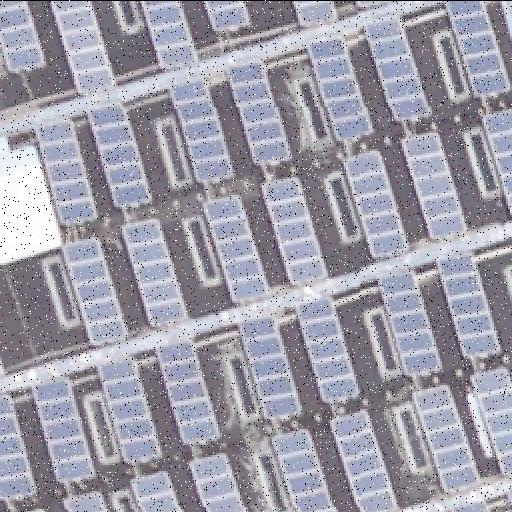solar-panel: (408, 379, 480, 493), (326, 404, 398, 512), (398, 127, 466, 241), (202, 191, 270, 305), (361, 13, 431, 123), (259, 172, 325, 284), (122, 215, 186, 329), (339, 149, 405, 259), (87, 97, 153, 207), (306, 35, 374, 141), (434, 248, 498, 360), (168, 72, 232, 184), (62, 232, 126, 344), (376, 265, 440, 375), (98, 354, 162, 462), (293, 293, 355, 403), (37, 113, 99, 223), (156, 339, 220, 445), (240, 314, 300, 422), (32, 375, 92, 481), (443, 0, 509, 96), (51, 1, 117, 95), (227, 59, 285, 165), (271, 425, 337, 511), (468, 362, 512, 474), (140, 1, 200, 71), (1, 390, 39, 498), (188, 448, 248, 512), (480, 104, 512, 216), (1, 0, 47, 72), (130, 468, 186, 512), (202, 0, 250, 32), (62, 484, 110, 512), (290, 0, 338, 26), (447, 497, 489, 511), (18, 504, 50, 512), (352, 0, 380, 8), (504, 488, 512, 512), (0, 361, 4, 375), (508, 0, 512, 8)
